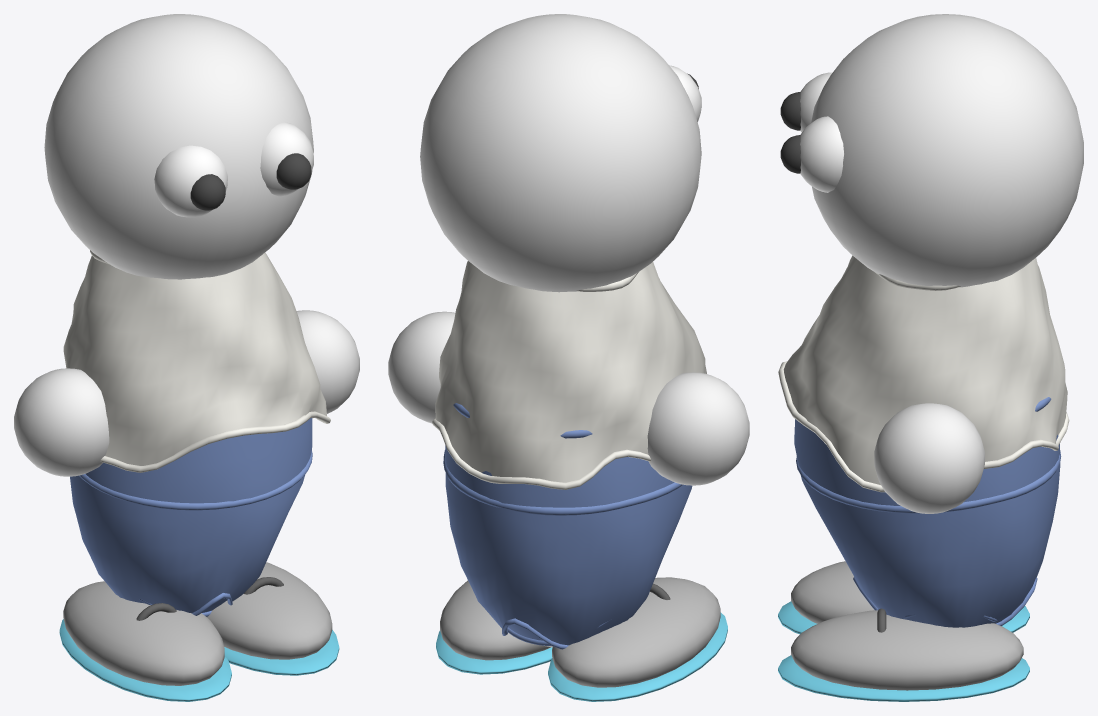
Rendered from blob_egg_pop.glb.
3 views of the same model, side by side, from view 1: azimuth 30°, elevation 25°; view 2: azimuth 150°, elevation 25°; view 3: azimuth 270°, elevation 25° (orthographic). The views are drawn at different scales.
Visible parts, largest first — view 1: Head, Singlet, Shorts_boardies, FootL, HandR, FootR, HandL, EyeL, ThongL, EyeR, ThongR, SingletHem (+3 smaller); view 2: Head, Singlet, Shorts_boardies, FootL, HandR, HandL, FootR, ThongL, Shorts_budgies_band, ThongR, SingletHem, EyeL; view 3: Head, Singlet, Shorts_boardies, FootR, HandL, ThongR, FootL, EyeR, SingletHem, Shorts_budgies_band, ThongL, EyeL (+2 smaller).
Boxes of the visible parts, left/top/right/bottom form: Head: left=44, top=14, right=313, bottom=279; Singlet: left=63, top=252, right=326, bottom=465; Shorts_boardies: left=70, top=418, right=312, bottom=613; FootL: left=63, top=581, right=224, bottom=685; HandR: left=14, top=368, right=109, bottom=476; FootR: left=207, top=562, right=332, bottom=659; HandL: left=296, top=310, right=359, bottom=418; EyeL: left=154, top=145, right=227, bottom=217; ThongL: left=59, top=619, right=231, bottom=701; EyeR: left=260, top=122, right=313, bottom=196; ThongR: left=224, top=630, right=339, bottom=675; SingletHem: left=100, top=411, right=330, bottom=472; Head: left=420, top=14, right=701, bottom=292; Singlet: left=435, top=261, right=706, bottom=482; Shorts_boardies: left=445, top=445, right=692, bottom=645; FootL: left=552, top=577, right=720, bottom=687; HandR: left=647, top=372, right=749, bottom=485; HandL: left=388, top=311, right=455, bottom=423; FootR: left=440, top=580, right=550, bottom=660; ThongL: left=548, top=612, right=727, bottom=701; Shorts_budgies_band: left=443, top=450, right=682, bottom=515; ThongR: left=436, top=630, right=552, bottom=674; SingletHem: left=432, top=418, right=650, bottom=489; EyeL: left=669, top=65, right=701, bottom=121; Head: left=811, top=14, right=1083, bottom=287; Singlet: left=783, top=255, right=1067, bottom=484; Shorts_boardies: left=794, top=419, right=1060, bottom=627; FootR: left=791, top=610, right=1023, bottom=690; HandL: left=874, top=403, right=984, bottom=513; ThongR: left=778, top=655, right=1029, bottom=701; FootL: left=791, top=561, right=874, bottom=623; EyeR: left=800, top=116, right=843, bottom=192; SingletHem: left=778, top=361, right=1069, bottom=492; Shorts_budgies_band: left=796, top=450, right=1061, bottom=513; ThongL: left=778, top=601, right=1029, bottom=634; EyeL: left=800, top=72, right=832, bottom=132.
Size of the model in its own units: 1.23 by 2.17 by 0.9586.
